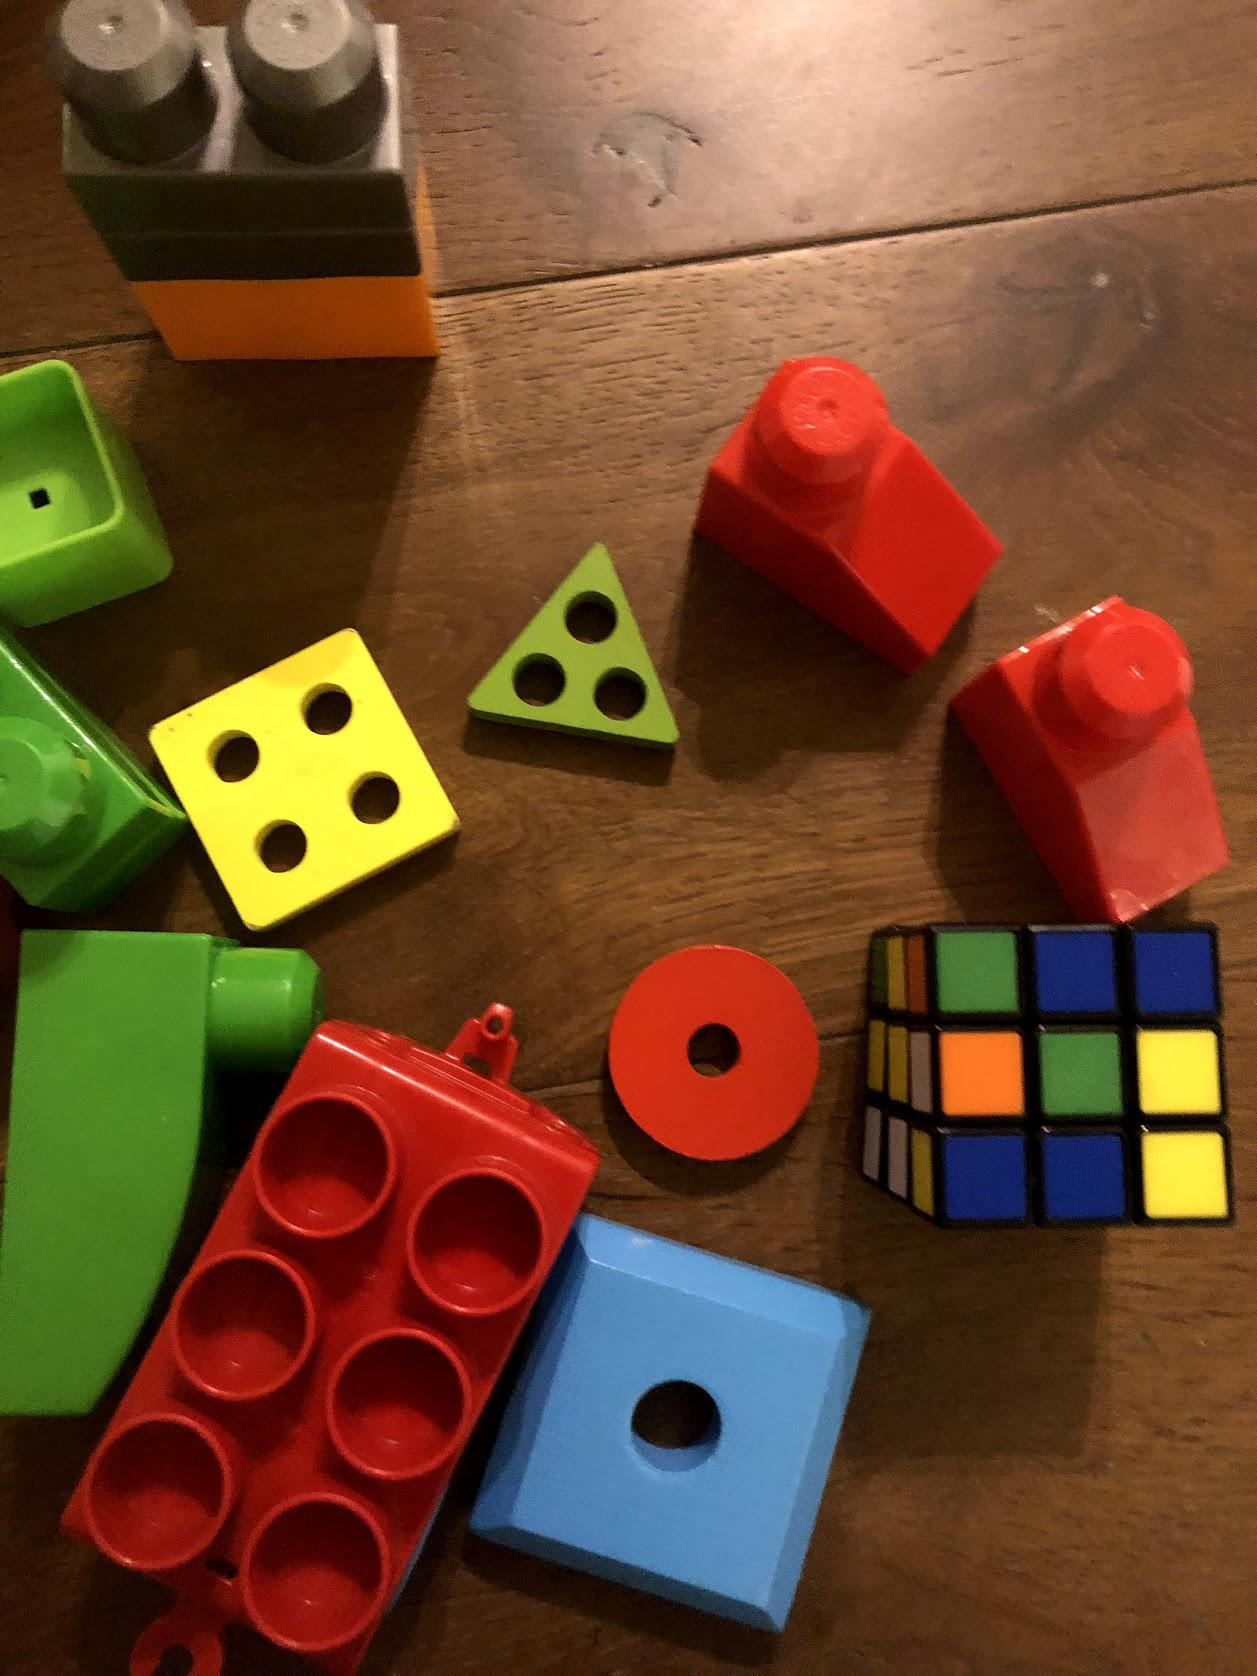Circle: (607, 940, 823, 1165)
Square: (151, 628, 462, 926)
Triangle: (471, 538, 675, 750)
